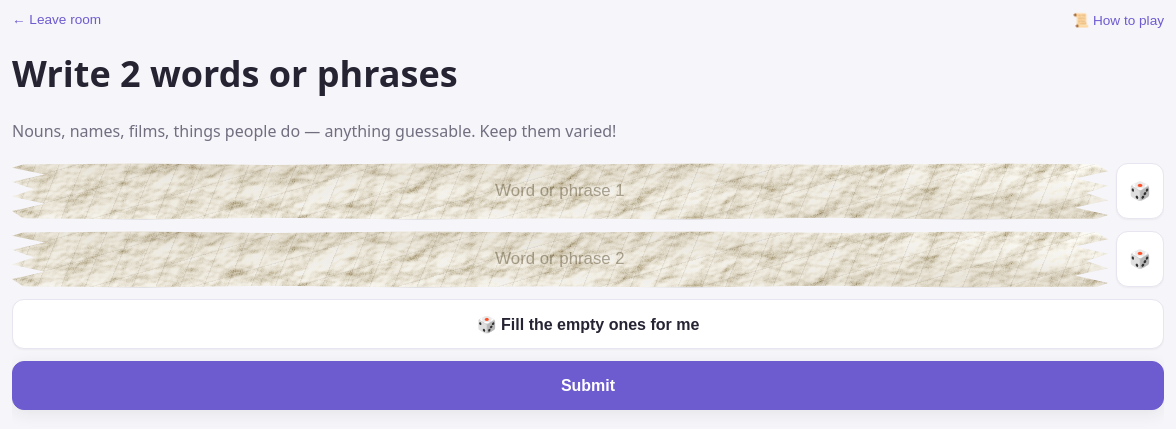
Scenario: the re-roll buttons go away on submit, so the slips centre on the box
This screenshot has width=1176, height=429.
Type "Walrus" into the field with placeholder "Word or phrase 1" at (560, 191), box left=12, top=168, right=1108, bottom=215
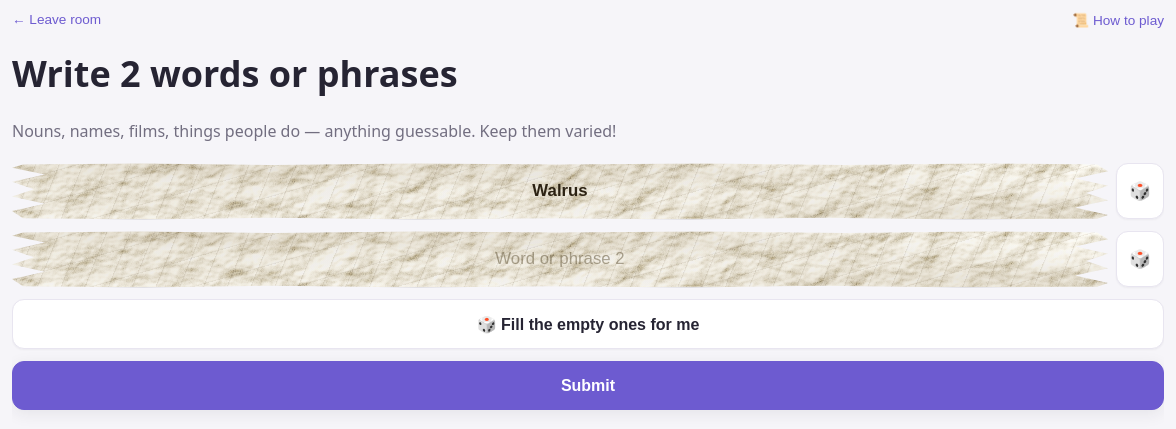
Type "Nachos" into the field with placeholder "Word or phrase 2" at (560, 259), box left=12, top=236, right=1108, bottom=283
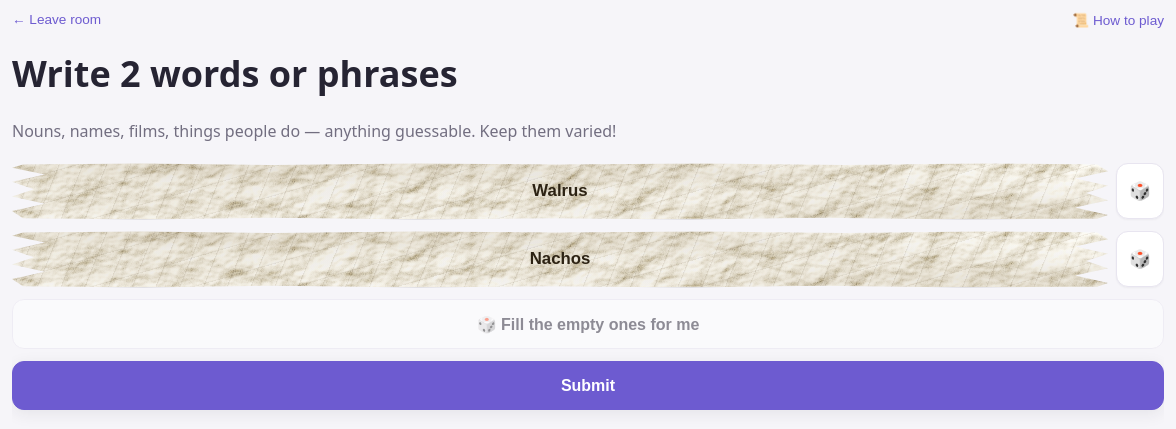
Check: the number of buttons named "Suggest a word or phrase" is 2, box left=1116, top=163, right=1164, bottom=219; left=1116, top=231, right=1164, bottom=287
Click the button "Submit" at (588, 386), box left=12, top=361, right=1164, bottom=410
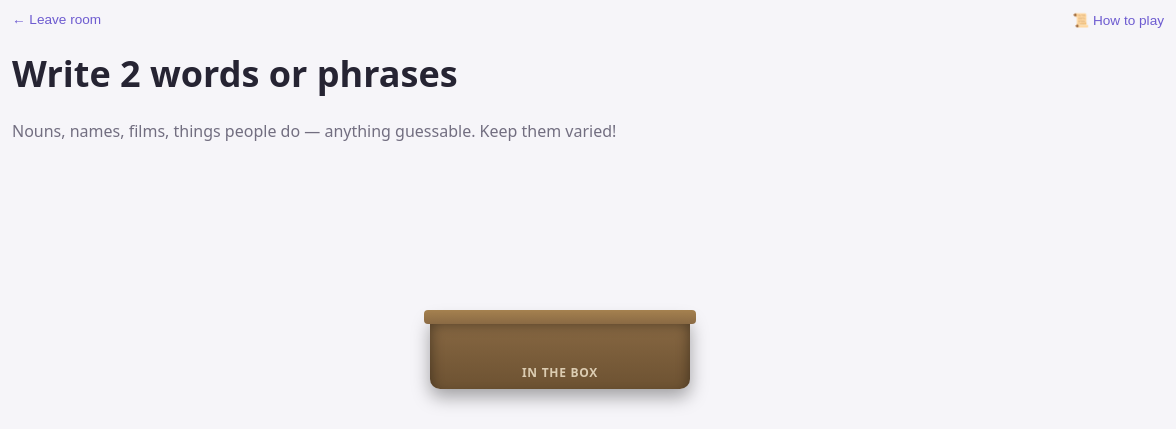
Check: the text "in the box" is shown, box left=522, top=364, right=598, bottom=389
